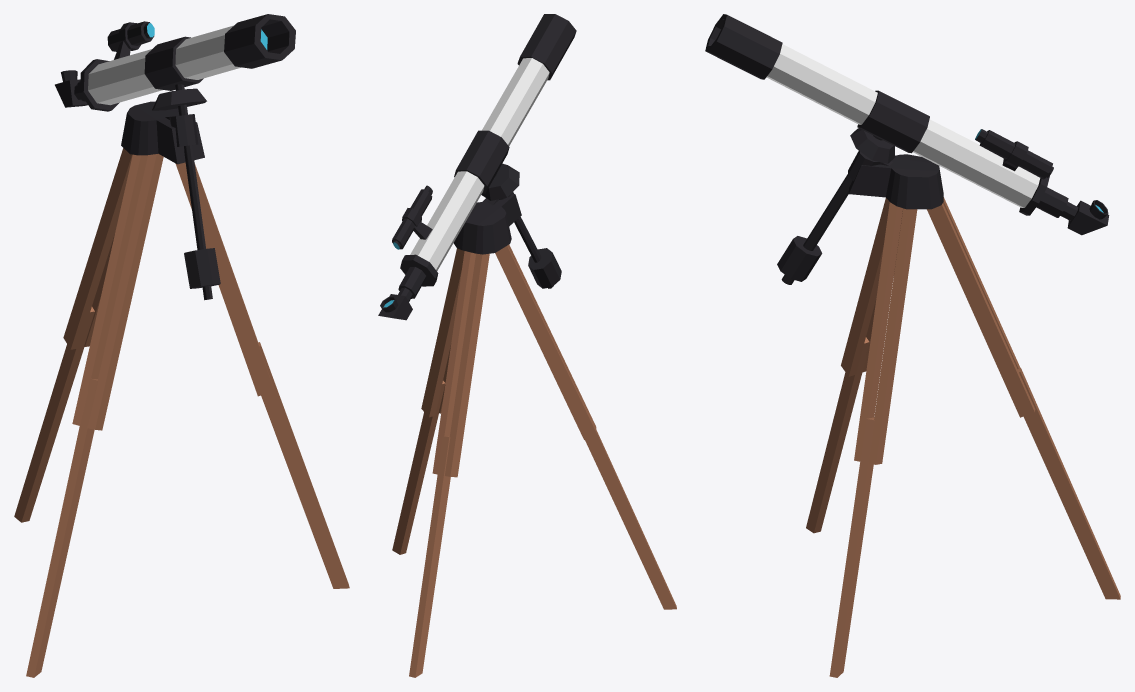
The model's file is Telescope.fbx.
The picture shows the model from 3 angles, left to right: view 1: azimuth 30°, elevation 25°; view 2: azimuth 150°, elevation 25°; view 3: azimuth 270°, elevation 25°; orthographic projection. The views are drawn at different scales.
Visible parts, largest first — view 1: Telescope; view 2: Telescope; view 3: Telescope.
Boxes of the visible parts, bbox=[...] form: Telescope: bbox=[14, 14, 349, 677]; Telescope: bbox=[378, 14, 676, 677]; Telescope: bbox=[705, 14, 1120, 677].
Bounding box in the file's own units: 103 × 189 × 119.
